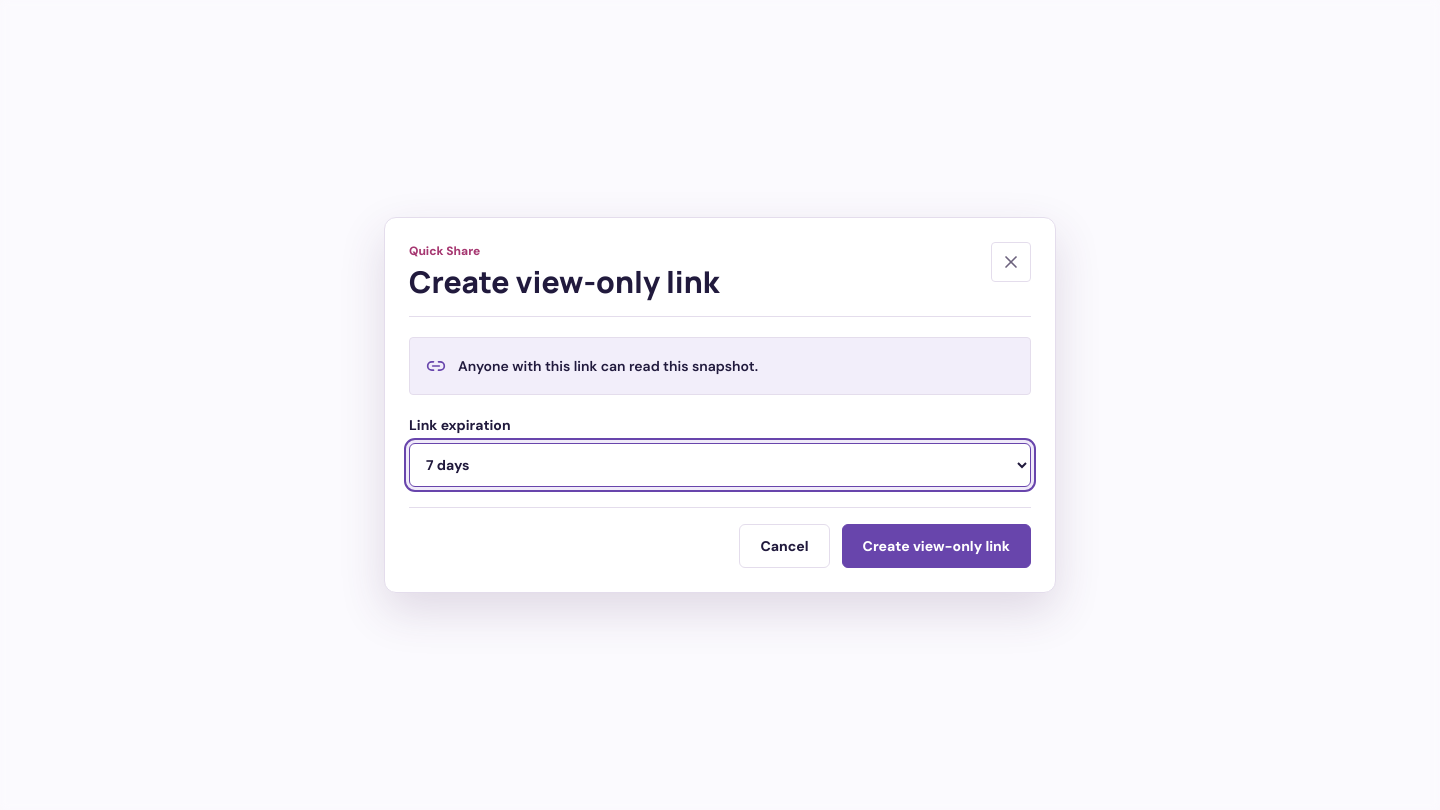
Test: QuickShareDialog › shows a retryable safe error
Click the button "Create view-only link". click: (936, 546)
box: [842,524,1031,568]
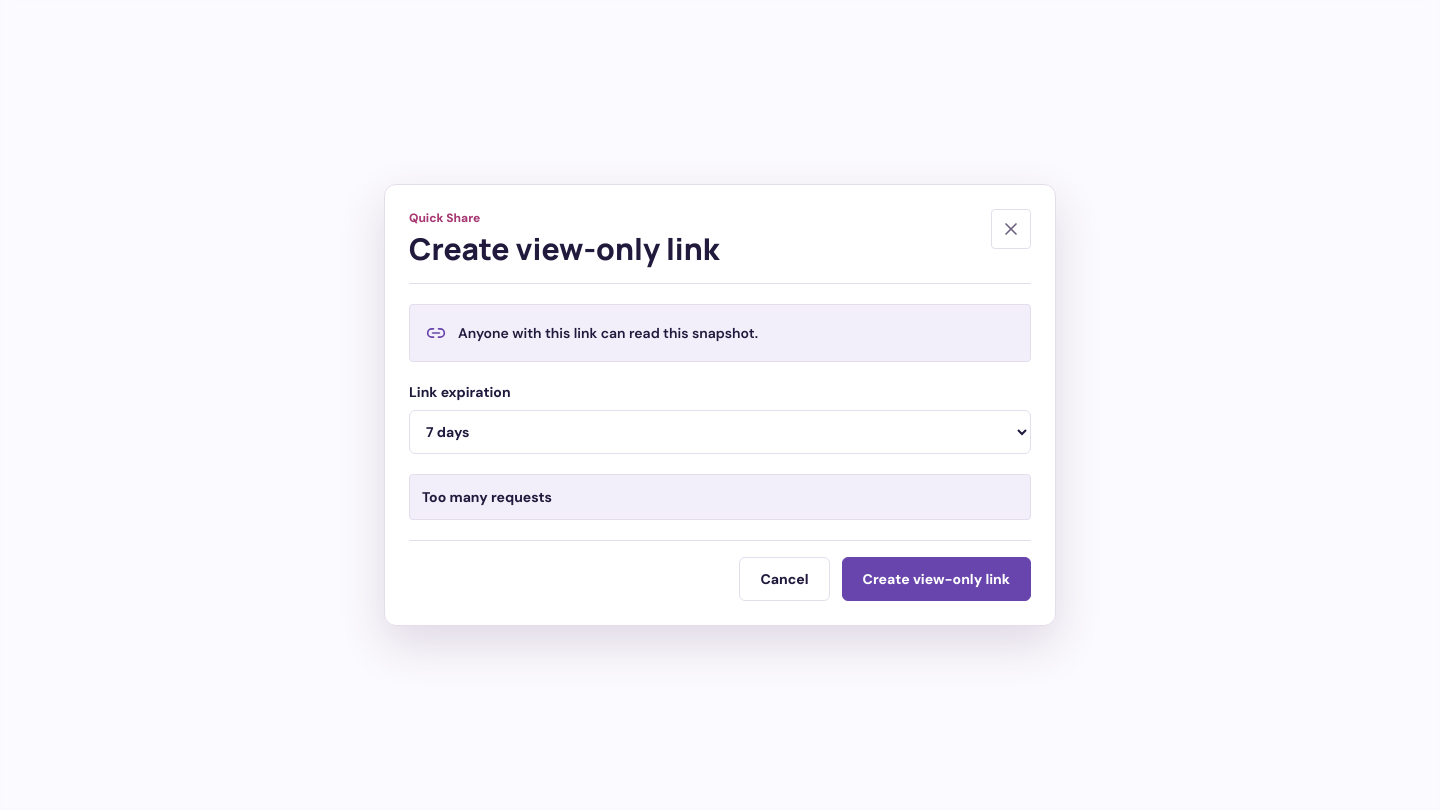
Expected: the button "Create view-only link" is enabled, [842,557,1031,601]
Expected: the message reads "Too many requests", [422,488,552,506]
